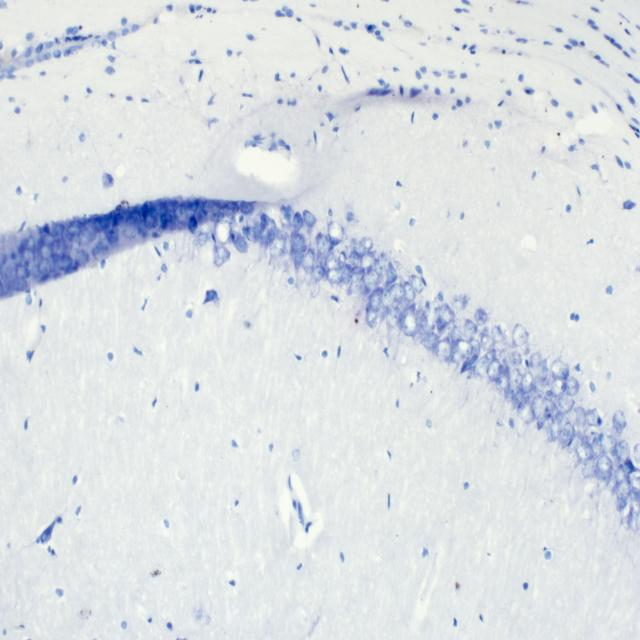neuron: (420, 301, 440, 335), (400, 308, 420, 336), (269, 234, 287, 261), (214, 220, 232, 244), (518, 398, 535, 423), (550, 357, 569, 379), (230, 230, 248, 253), (512, 323, 528, 348), (599, 432, 618, 453), (92, 240, 109, 262), (328, 221, 344, 244), (436, 339, 452, 362), (214, 246, 231, 267), (290, 234, 306, 256), (575, 443, 593, 462), (596, 454, 613, 474), (531, 393, 544, 419), (450, 342, 464, 366), (488, 358, 502, 382), (463, 319, 478, 341), (160, 212, 178, 230), (558, 393, 575, 412), (595, 469, 612, 488), (173, 205, 189, 225), (315, 233, 330, 254), (504, 380, 519, 401), (616, 478, 631, 499), (302, 248, 316, 270), (381, 285, 395, 307), (520, 372, 534, 394), (456, 338, 473, 356), (326, 268, 342, 287), (421, 331, 437, 350), (581, 460, 597, 479), (62, 227, 74, 252), (474, 358, 489, 378), (615, 464, 630, 484), (386, 306, 399, 329), (613, 411, 626, 434), (440, 303, 454, 324), (452, 294, 470, 310), (364, 270, 377, 292), (574, 406, 587, 428), (365, 308, 379, 328), (390, 283, 404, 303), (350, 276, 362, 299), (11, 276, 28, 292), (58, 254, 74, 271), (127, 210, 144, 226), (324, 253, 340, 270), (586, 409, 602, 426), (360, 252, 375, 270), (409, 274, 423, 293), (566, 377, 580, 396), (369, 290, 381, 312), (48, 252, 61, 272), (403, 282, 416, 302), (550, 378, 566, 394), (51, 224, 65, 242), (292, 211, 304, 232), (338, 264, 352, 282), (490, 325, 504, 343), (496, 376, 510, 394), (386, 263, 397, 285), (537, 359, 548, 381), (619, 439, 630, 461), (74, 250, 89, 266), (144, 212, 159, 228), (223, 202, 239, 217), (359, 236, 374, 252), (511, 390, 523, 410), (567, 434, 579, 454), (40, 243, 54, 260), (105, 225, 118, 243), (374, 258, 386, 277), (530, 349, 542, 368), (480, 334, 495, 349), (15, 264, 31, 278), (77, 229, 91, 245), (303, 210, 316, 227), (544, 397, 557, 414), (475, 308, 487, 326), (533, 373, 545, 391), (616, 496, 628, 514), (240, 201, 255, 215), (311, 266, 326, 280), (246, 225, 259, 241), (258, 234, 270, 251), (610, 454, 622, 471), (451, 325, 462, 343), (629, 485, 640, 503), (630, 511, 639, 533), (22, 249, 36, 263), (554, 411, 568, 425), (348, 250, 360, 266), (470, 337, 480, 356), (591, 437, 600, 458), (41, 233, 55, 246), (67, 224, 81, 237), (351, 265, 365, 278), (509, 352, 522, 366), (39, 258, 51, 273), (378, 304, 388, 322), (564, 421, 575, 437), (629, 498, 640, 514), (266, 224, 278, 238), (508, 368, 520, 382), (560, 429, 568, 450), (125, 216, 136, 231), (259, 211, 270, 226), (633, 442, 640, 465), (310, 282, 320, 298), (197, 232, 208, 246), (551, 421, 559, 440), (298, 264, 305, 284), (622, 515, 631, 530), (380, 252, 392, 263), (486, 348, 496, 361), (305, 268, 312, 286), (350, 237, 357, 254), (216, 210, 226, 220), (546, 432, 554, 443), (499, 349, 506, 361)
